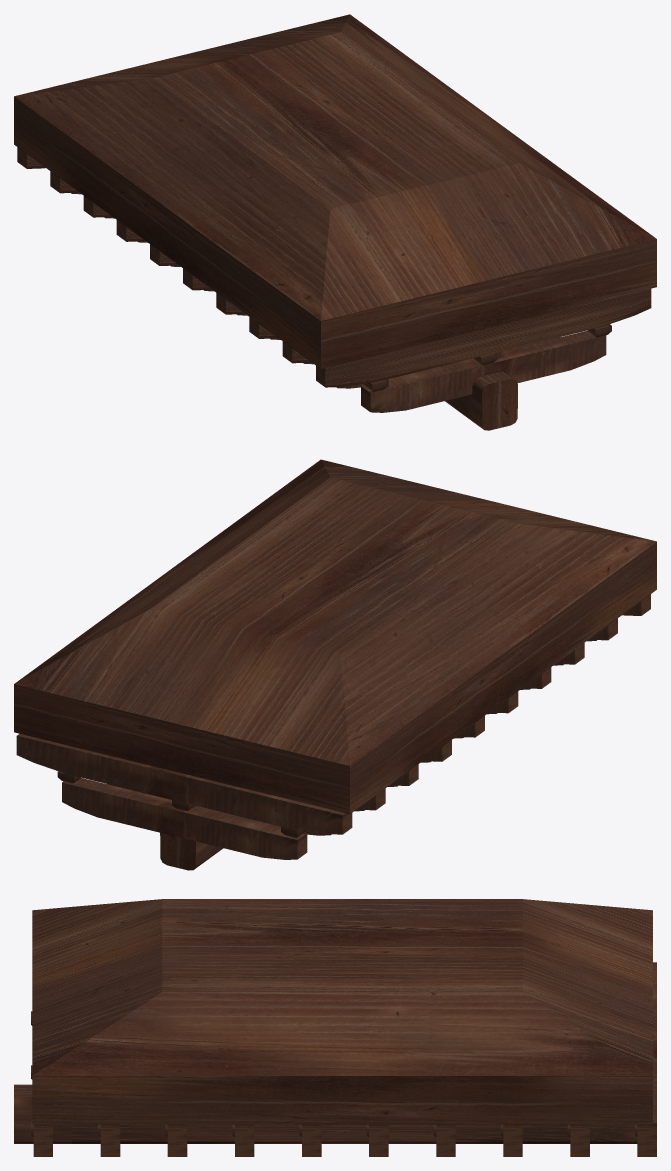
File: SM_R_R_GateModular_3.fbx
3 renders of one model, top to bottom at view 1: azimuth 30°, elevation 25°; view 2: azimuth 150°, elevation 25°; view 3: azimuth 270°, elevation 25°, orthographic.
Parts seen in each view (by area): view 1: SM_R_R_GateModular_3; view 2: SM_R_R_GateModular_3; view 3: SM_R_R_GateModular_3.
Boxes of the visible parts, x1,y1,x2,y2 form: SM_R_R_GateModular_3: (14,14,656,430); SM_R_R_GateModular_3: (14,459,656,870); SM_R_R_GateModular_3: (14,899,656,1156).
Bounding box in the file's own units: 209 × 343 × 112.
Materials: 2 (2 with a texture image).
